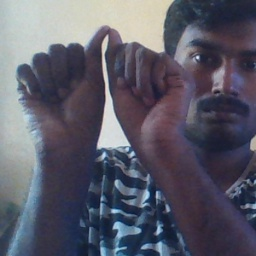A: (12, 23, 197, 137)
